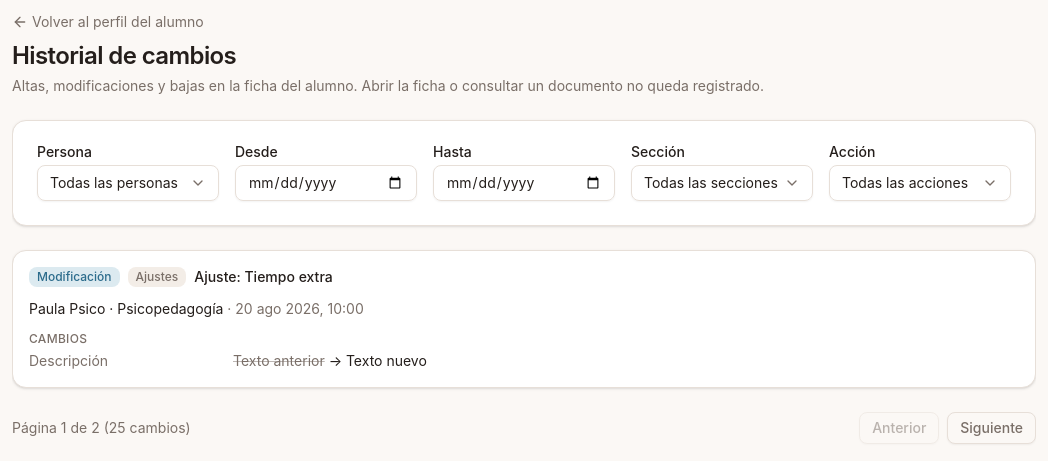
Scenario: StudentHistoryPage › paginates: prev is disabled on page 1, next requests page 2 with the same filters
Expected: the text "Página 1 de 2 (25 cambios)" is shown, [12,418,191,438]
Expected: the button "Anterior" is disabled, [859,412,939,444]
Step 1. Click the button "Siguiente" → (992, 428), box [947,412,1036,444]
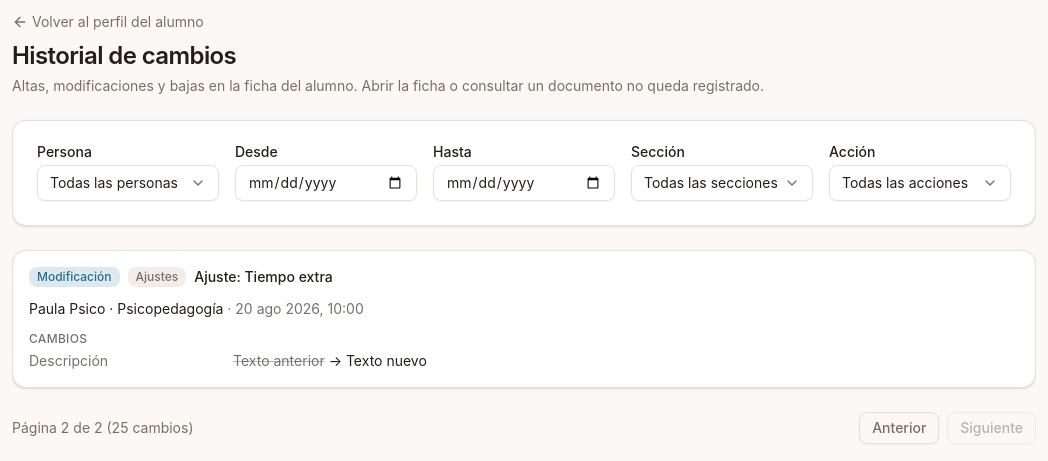
Expected: the text "Página 2 de 2 (25 cambios)" is shown, [12,418,194,438]
Expected: the button "Siguiente" is disabled, [947,412,1036,444]
